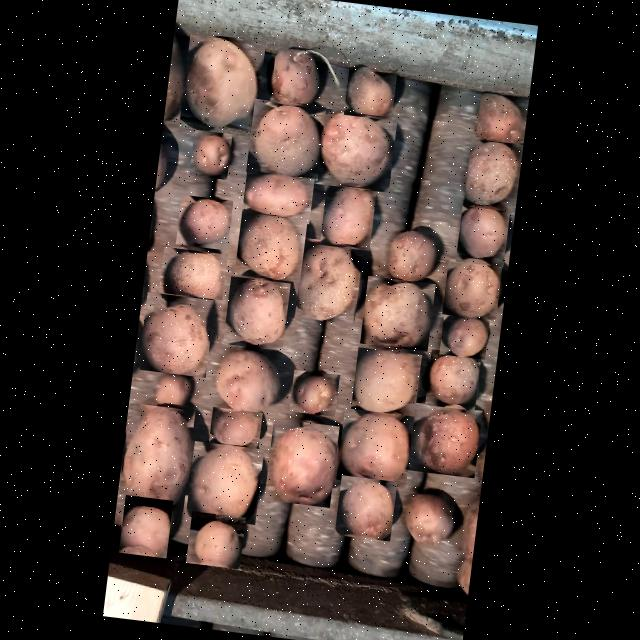Defected potato: (246, 98, 326, 180), (268, 40, 324, 110)
Diseased-fungal potato: (178, 31, 266, 136), (117, 402, 195, 511), (312, 106, 398, 192), (185, 439, 264, 524), (264, 418, 339, 507), (138, 290, 215, 376), (336, 406, 414, 486), (294, 236, 364, 324), (360, 274, 436, 350), (407, 401, 482, 477), (234, 208, 308, 282), (210, 347, 286, 418), (222, 274, 290, 350), (351, 346, 422, 415), (463, 137, 523, 211), (400, 486, 462, 556), (334, 474, 397, 540), (378, 222, 442, 286), (319, 180, 376, 250), (242, 169, 314, 223), (442, 258, 502, 320), (456, 198, 510, 266), (158, 246, 228, 298), (186, 510, 246, 568), (425, 348, 481, 410), (118, 494, 173, 557), (175, 193, 233, 249), (343, 60, 398, 119), (476, 82, 530, 141), (288, 368, 339, 416), (439, 311, 490, 358), (208, 406, 262, 450), (189, 128, 232, 178), (152, 371, 193, 408)
